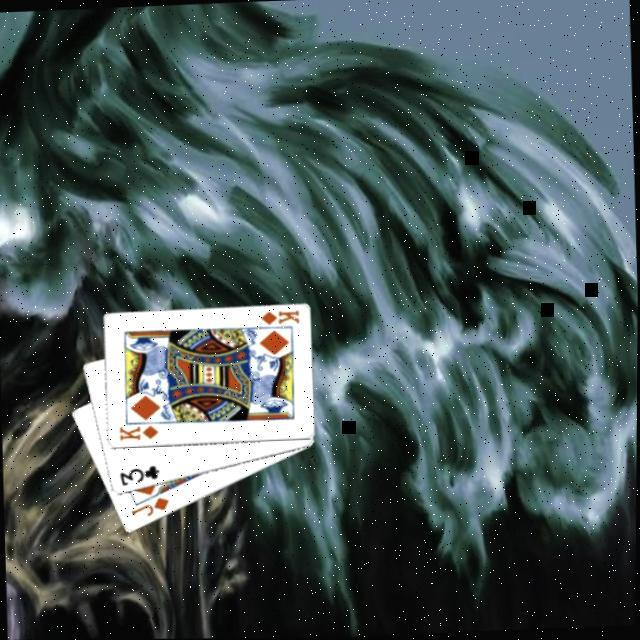3C: (116, 463, 164, 490)
JD: (128, 494, 174, 520)
KD: (116, 422, 162, 444), (258, 308, 303, 330)
